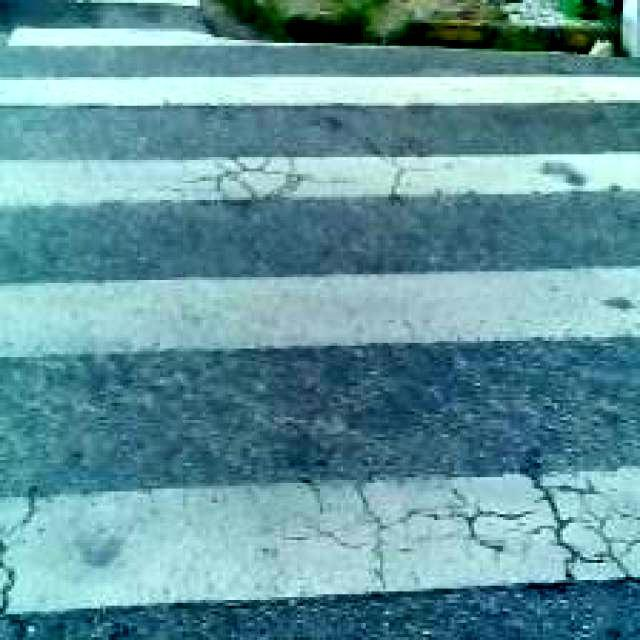crosswalk: (1, 11, 637, 609)
